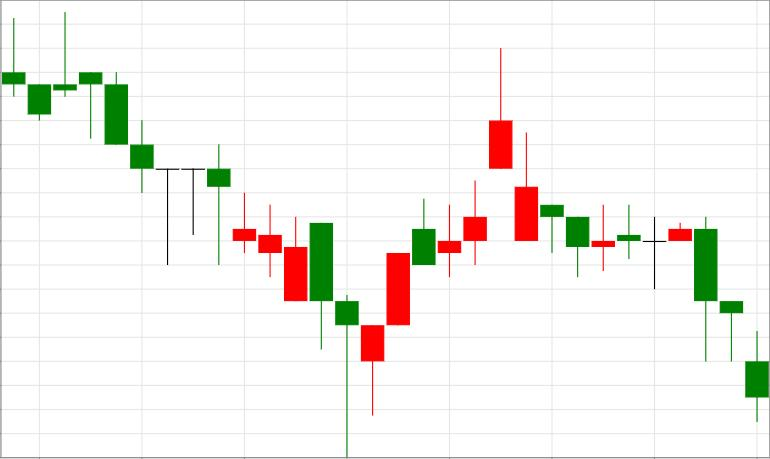hammer_rise: (208, 143, 384, 459)
shooting_star_fall: (362, 48, 512, 416)
